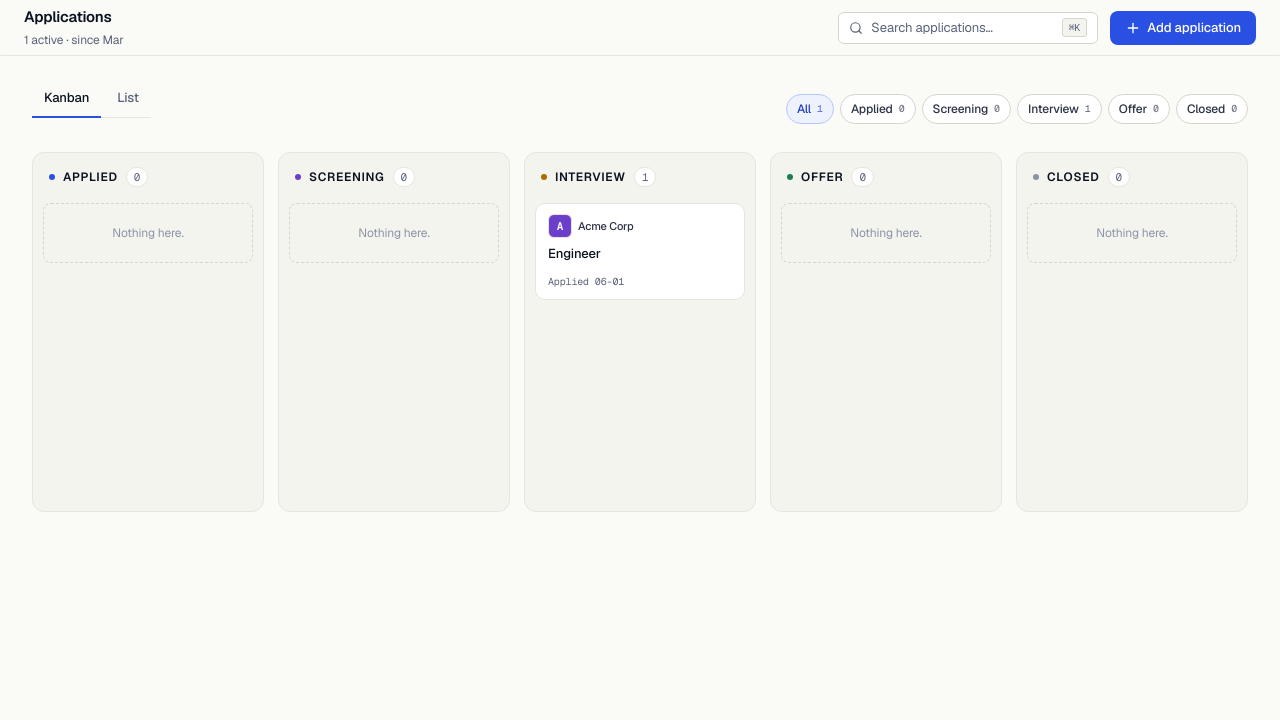
TC-DND-012/013/014: Backward pipeline move requires confirmation (AC-12, AC-13, AC-14) › reverts the card to its original column when Cancel is clicked (AC-14)
Press the mouse on the button "A Acme Corp Engineer Applied 06-01" at {"x": 640, "y": 251}, box [535, 203, 745, 300]
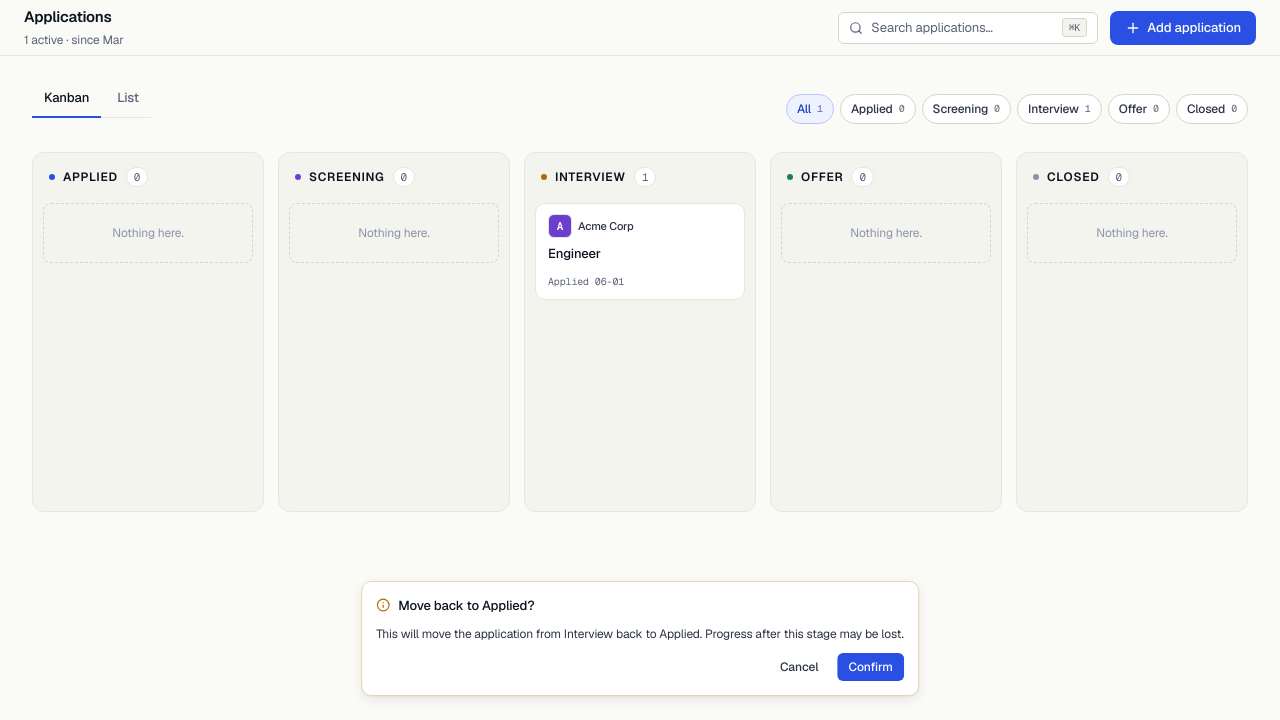
Click the button "Cancel" at {"x": 799, "y": 667}, box [769, 653, 830, 681]
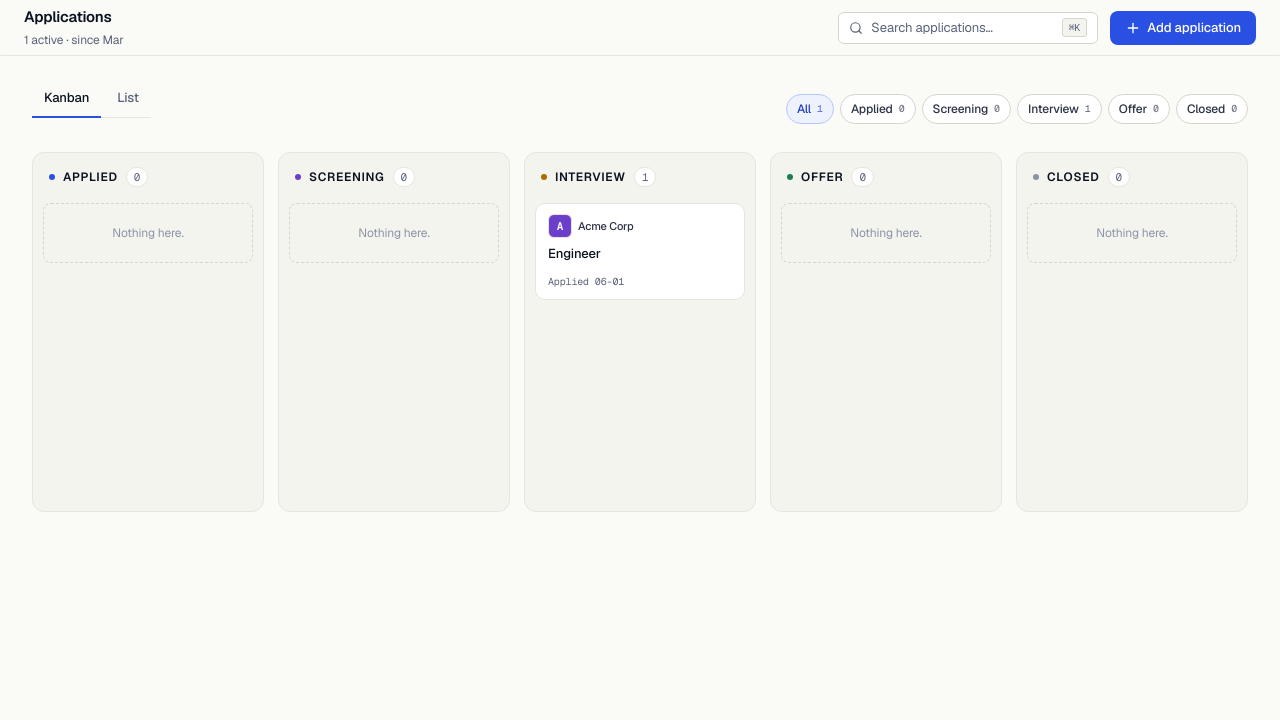
Check: the text "Acme Corp" is shown, box [578, 218, 634, 234]
Check: the dialog is gone
